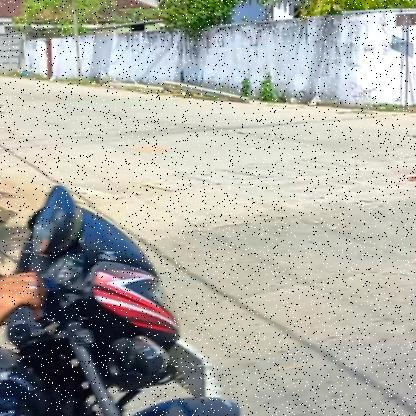motorcycle: (0, 130, 299, 416)
